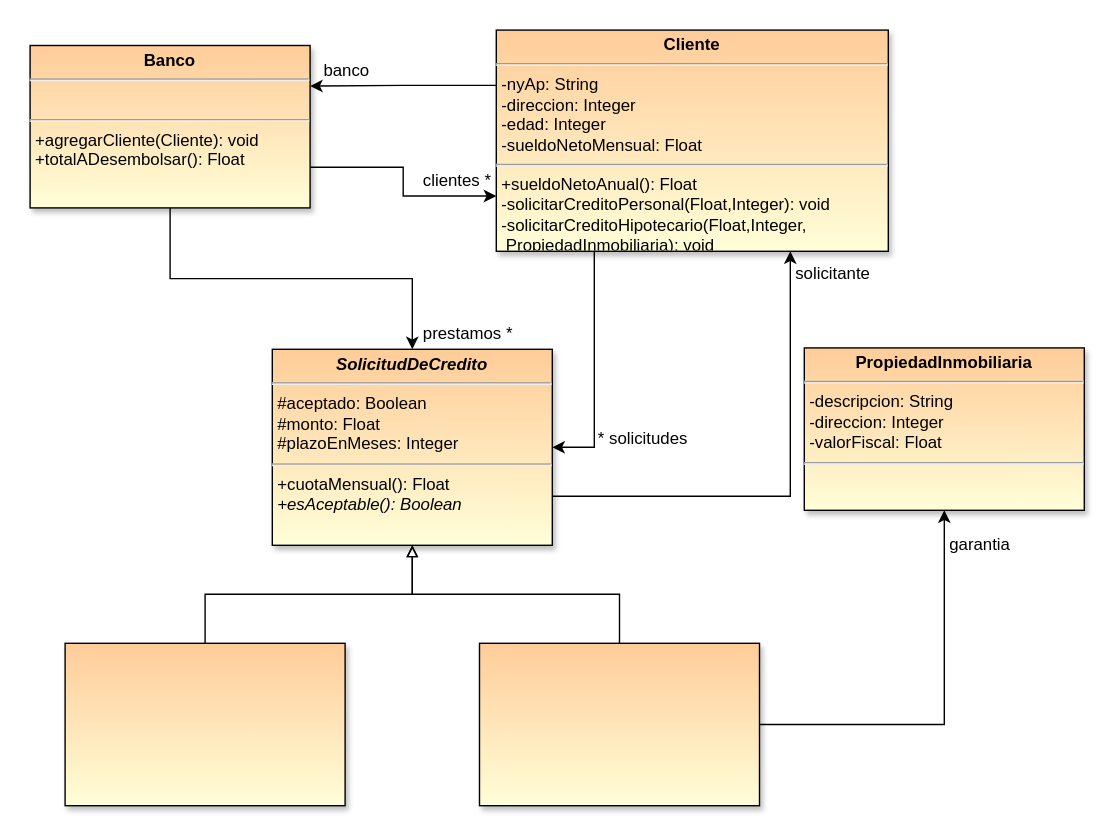
This 1117x840 diagram has some shape labels left out. Here are the shapes that lost their labels. From the top down, the centre of each, then its label:
(206,726): CreditoPersonal +esAceptable(): Boolean
(620,726): CreditoHipotecario +esAceptable(): Boolean
